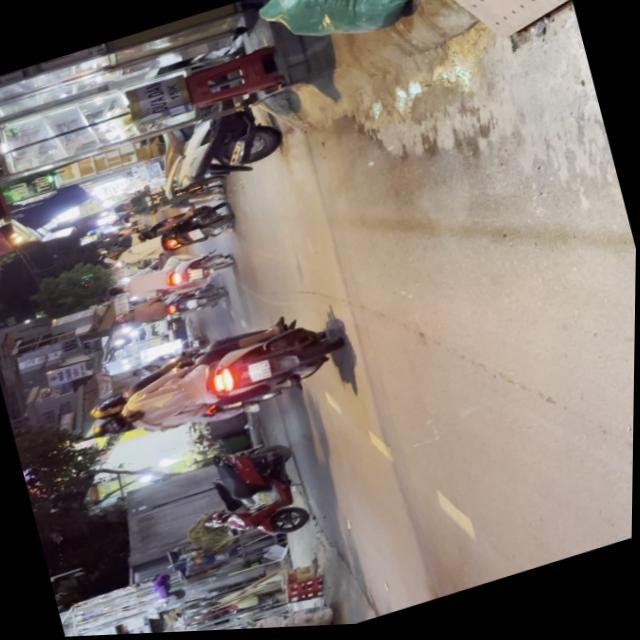helmet: (90, 410, 138, 444), (88, 395, 130, 424)
licenseplate: (75, 304, 353, 460)
nohelmet: (246, 361, 272, 385)
